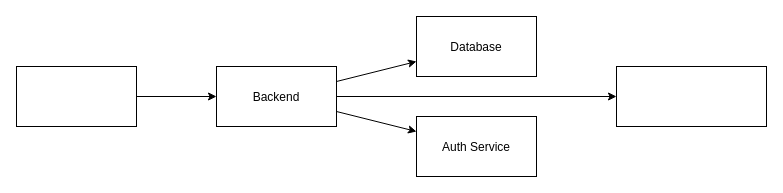
Some shapes in this 783 by 193 pixel diagram are drawn without their labels. Here are the shapes that lost their labels. From the top down, the centre of each, then its label:
At (x=76, y=96): "Frontend".
At (x=691, y=96): "Payment Gateway".
